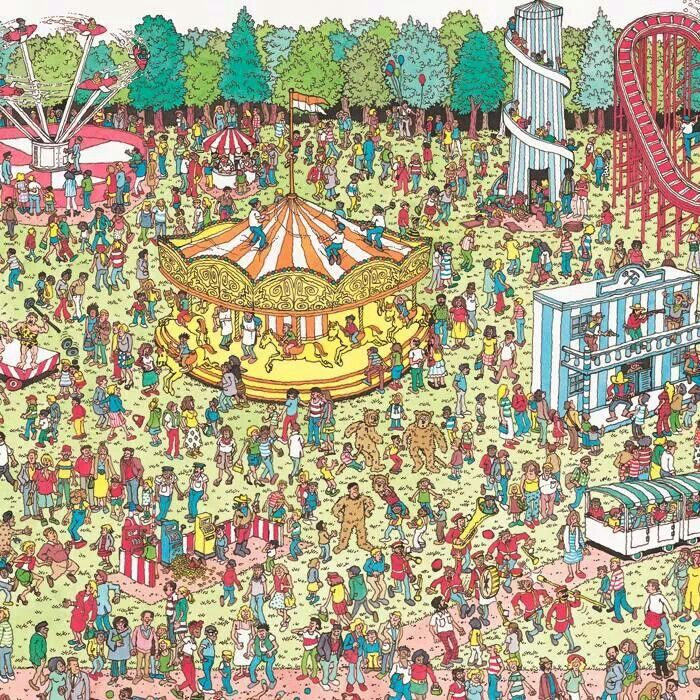waldo: (622, 445, 643, 480), (630, 446, 641, 462)
